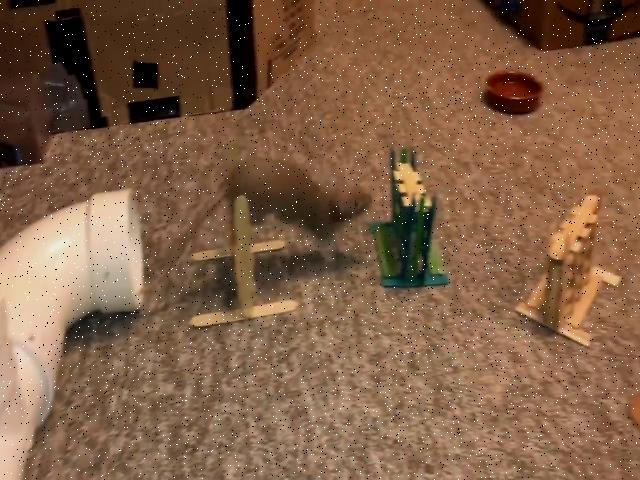Tikus: (228, 155, 372, 259)
